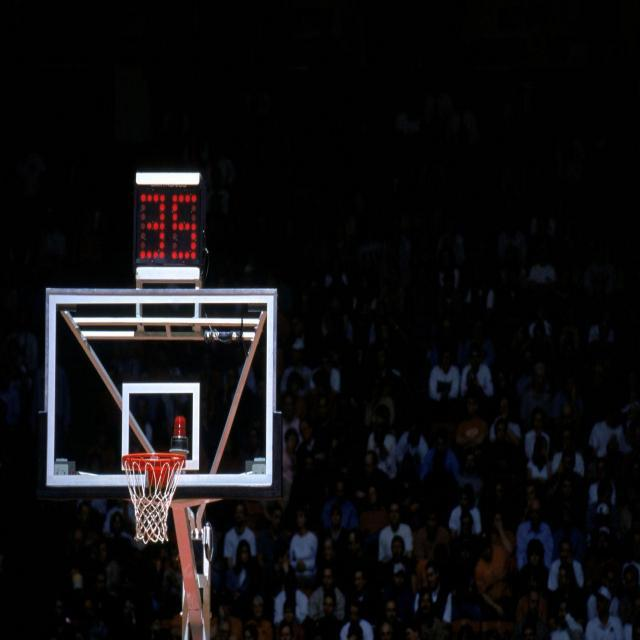hoop: (122, 452, 186, 544)
